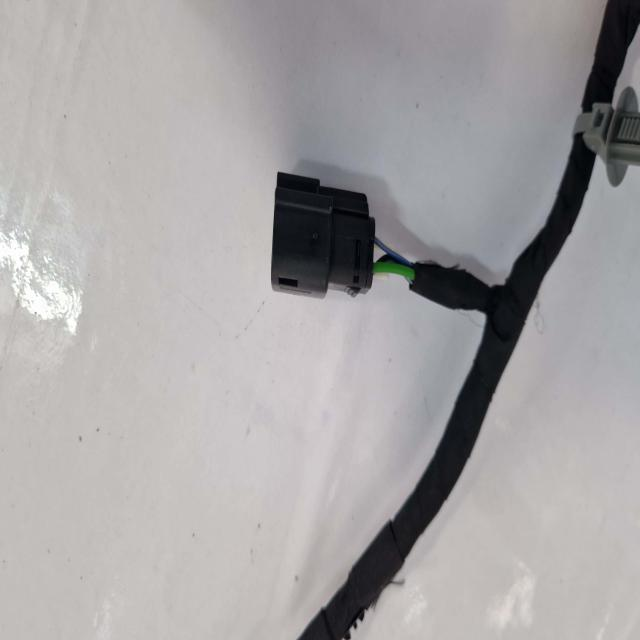Clip: (574, 87, 640, 187)
Connector: (267, 170, 375, 296)
Gape: (374, 226, 418, 302)
MHEV_N11_Cable: (318, 125, 599, 627), (600, 0, 640, 116)
